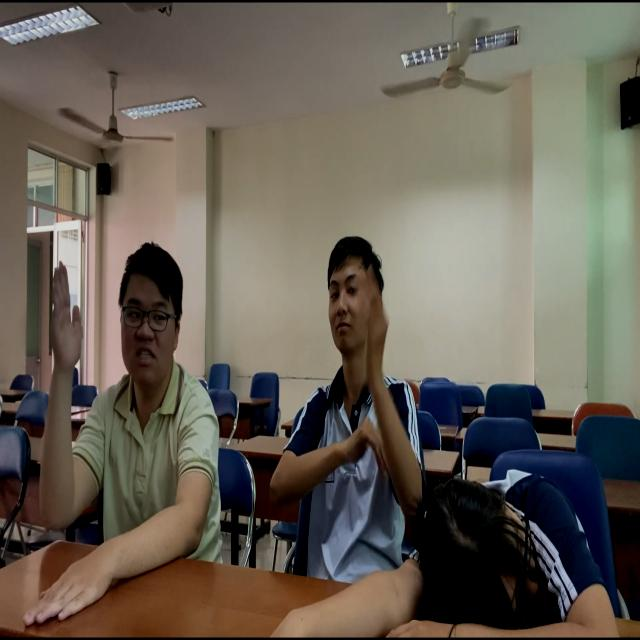raise_hand: (6, 235, 239, 637), (286, 230, 412, 629)
sleep: (377, 454, 640, 639)
